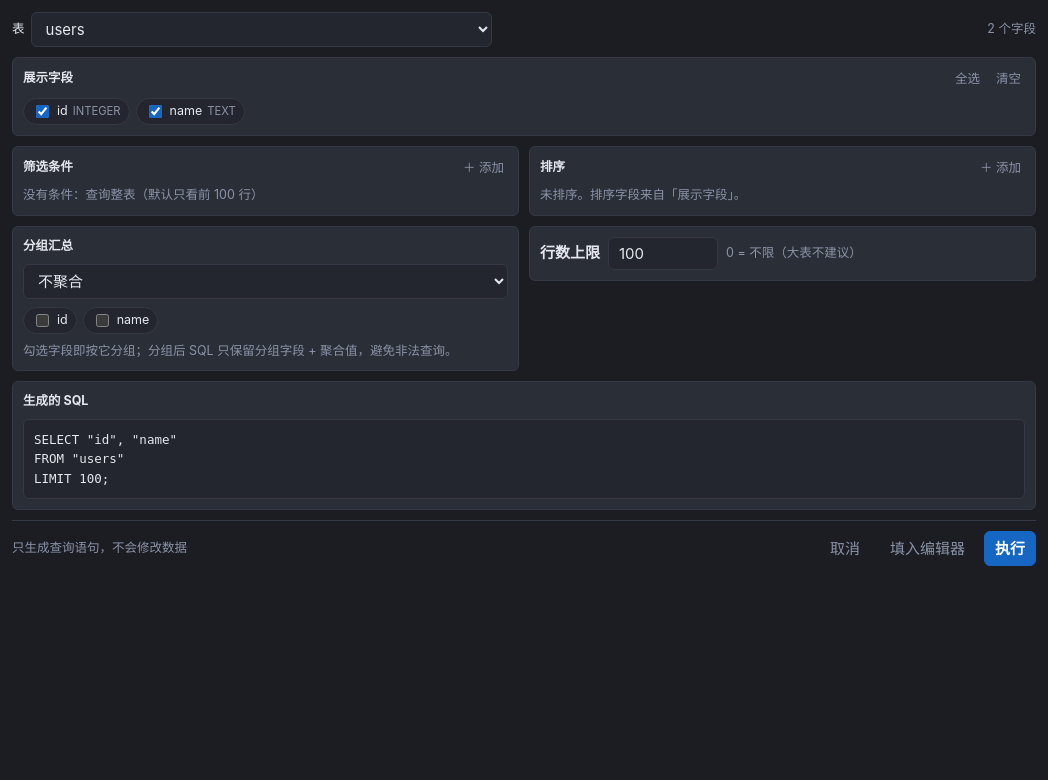
Test: QueryBuilder › 新增筛选并填值后带上 WHERE（数值列不加引号）
Step 1. Click the button "＋ 添加" in the row of "筛选条件" → [484, 167], box [459, 156, 508, 178]
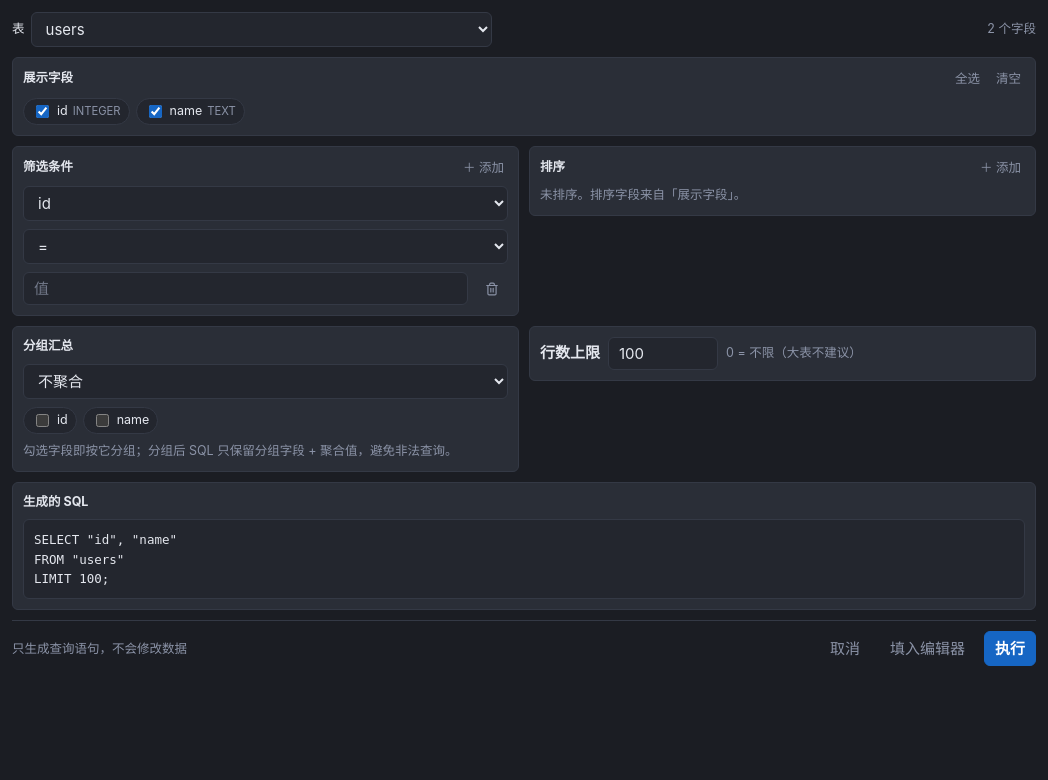
Step 2. Type "18" into the field with placeholder "值" → [246, 288], box [23, 272, 468, 305]
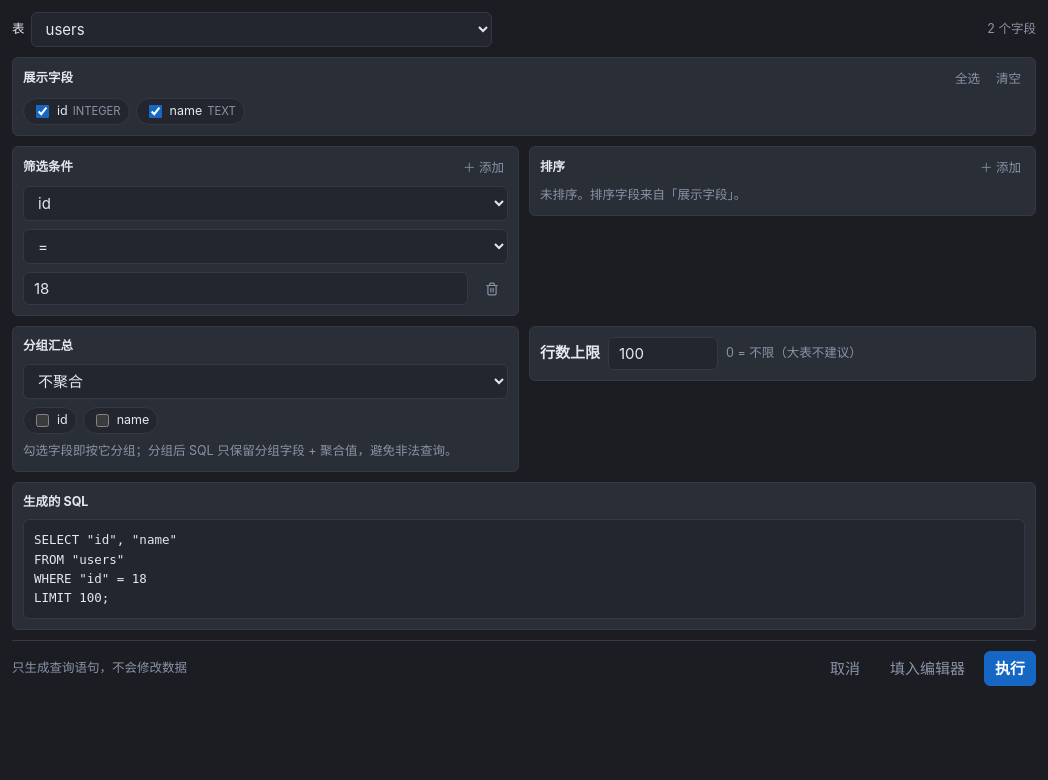
Check: the text "SELECT \"id\", \"name\" FROM \"users\" WHERE \"id\" = 18 LIMIT 100;" shows "WHERE \"id\" = 18", box [34, 532, 177, 605]
